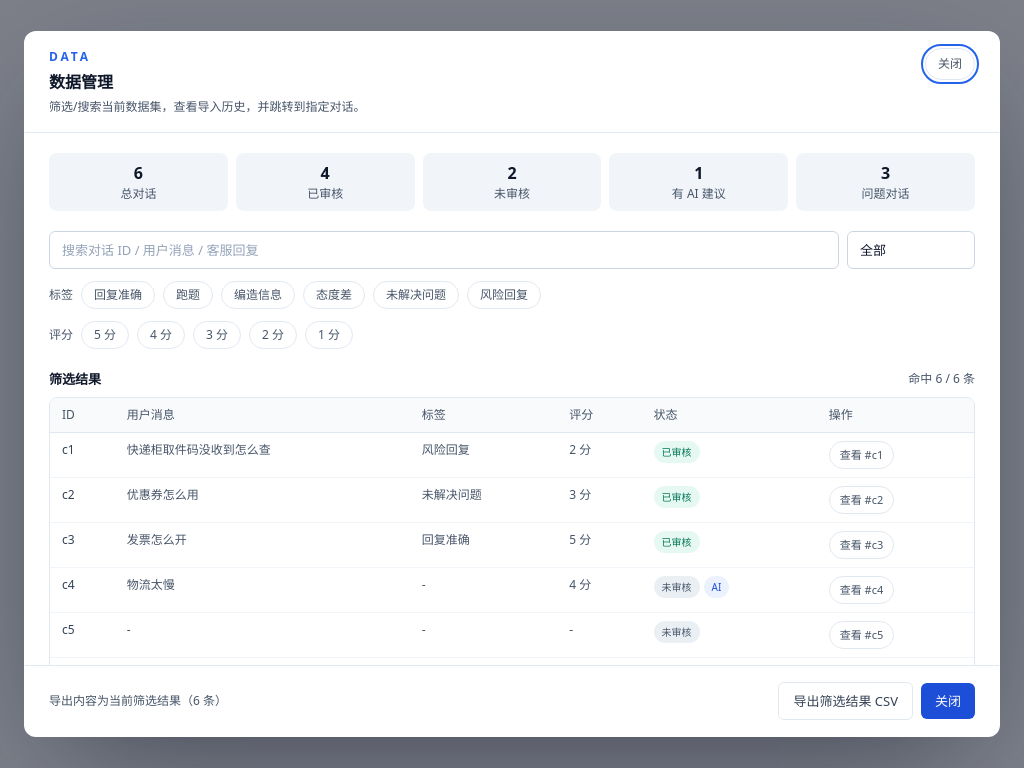
Test: DataManagerPanel 补充 · 关键词搜索与清空筛选 › 搜索无结果 → 空态提示、命中 0 条、导出按钮禁用
Type "不存在的关键词" into the search field labelled "搜索对话" at (444, 250), box x1=49 y1=231 x2=839 y2=269
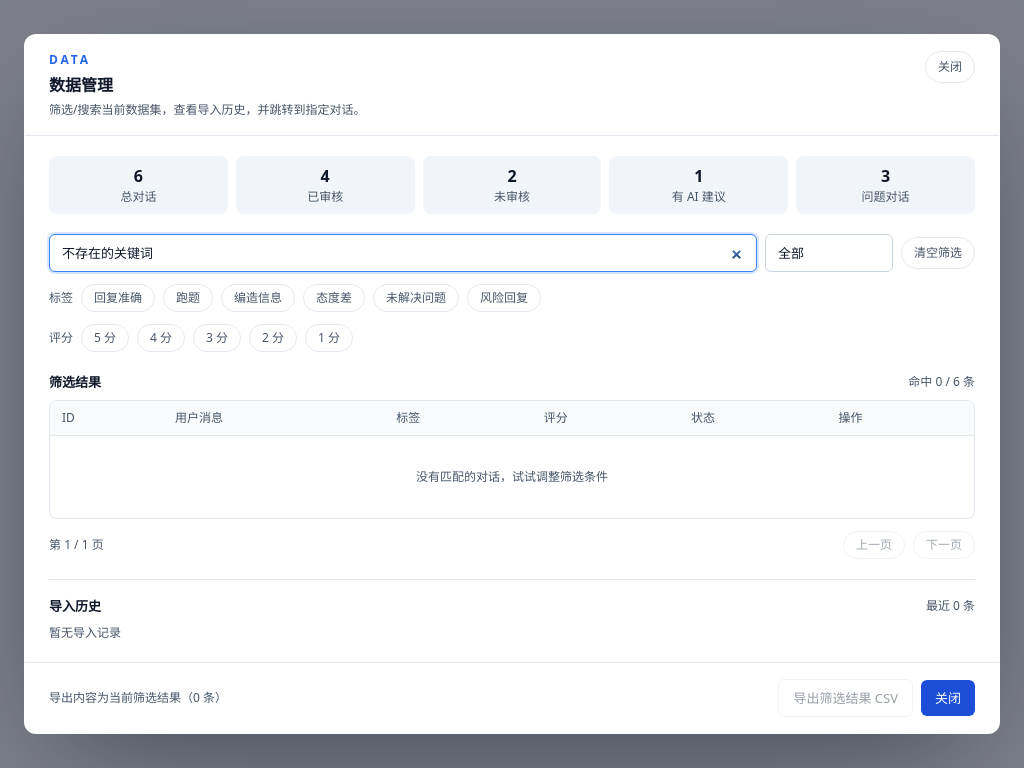
expect the text "没有匹配的对话，试试调整筛选条件" is shown: met, box x1=50 y1=436 x2=974 y2=518
expect the text "命中 0 / 6 条" is shown: met, box x1=908 y1=373 x2=975 y2=391
expect the button "导出筛选结果 CSV" is disabled: met, box x1=778 y1=679 x2=913 y2=717
